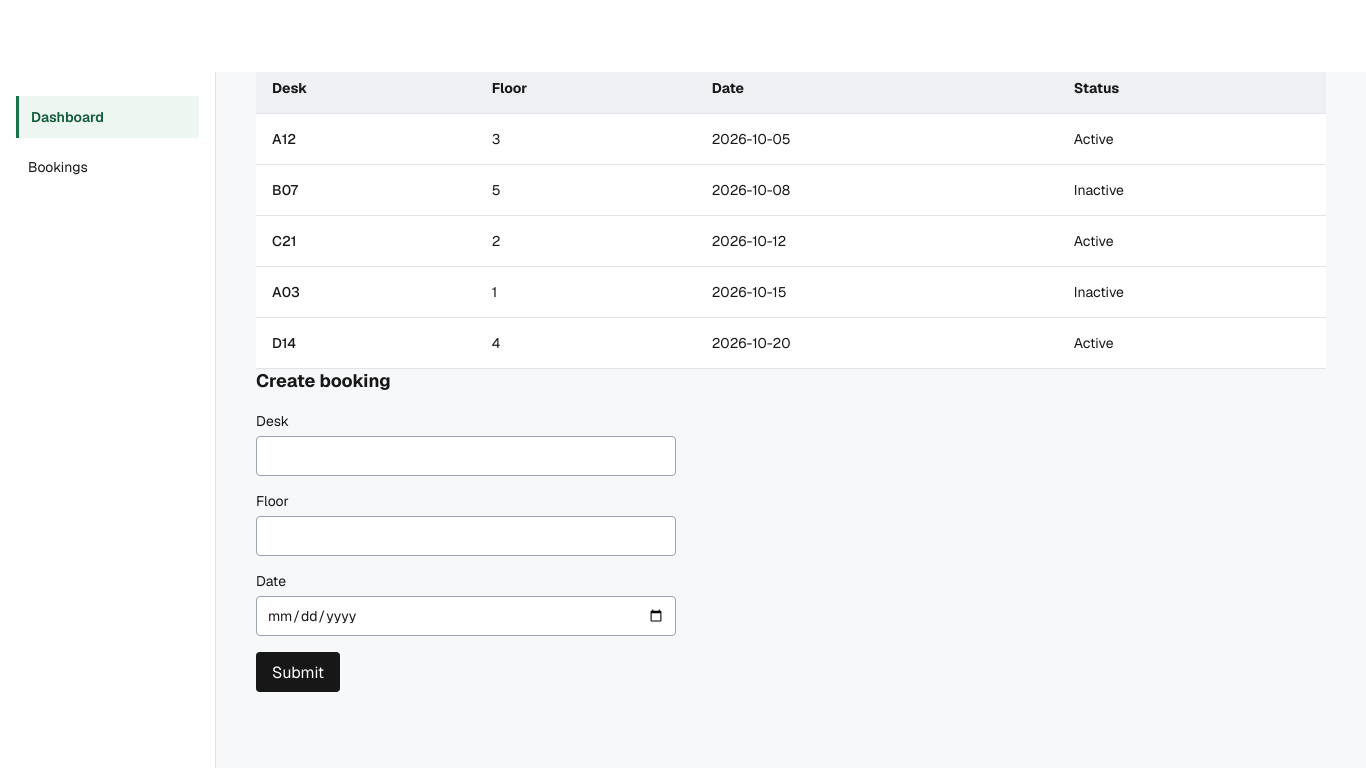
Test: dashboard booking creation › does not add an invalid booking or display success
(page scrolled)
Click the button "Submit" at (298, 672), box [256,652,340,692]
Wait 2000 ms
(page scrolled)
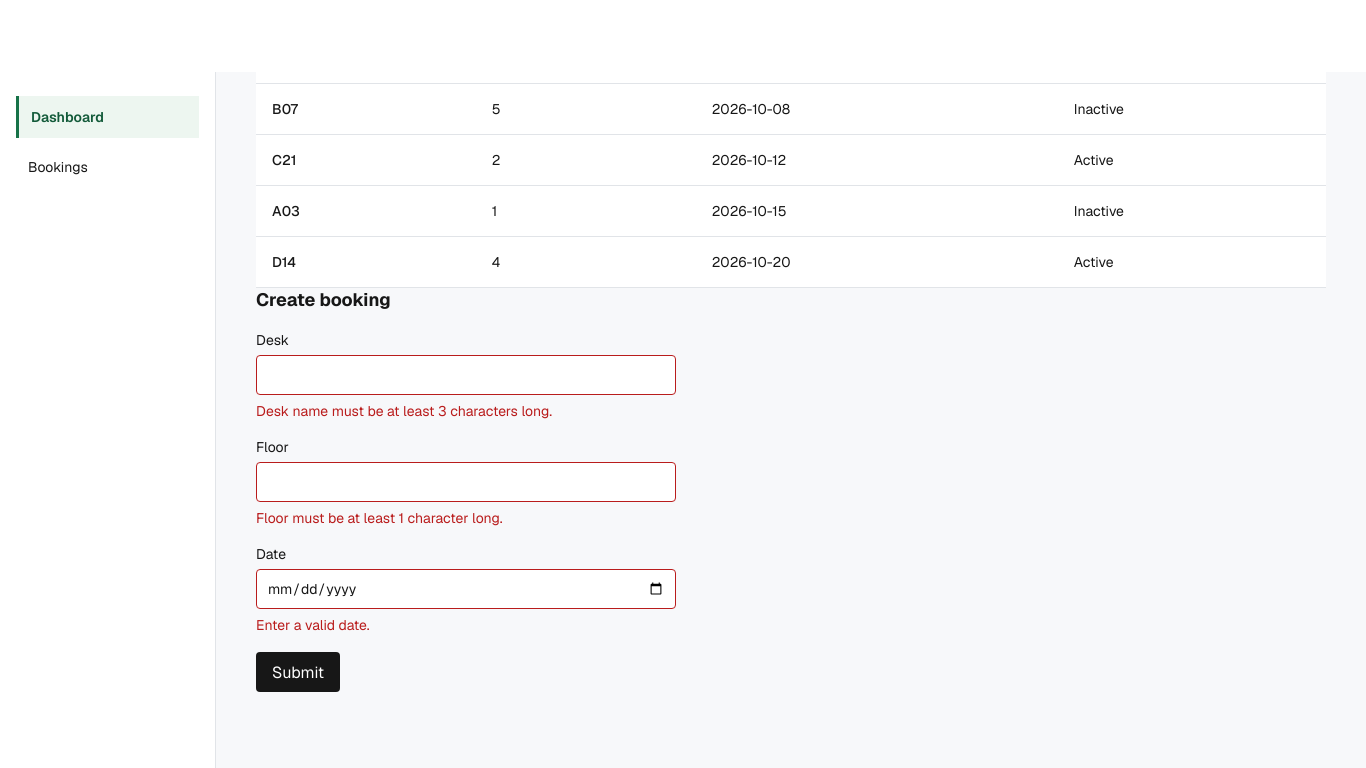
Check: the number of messages is 3, box [256,402,552,420]; [256,509,503,527]; [256,616,370,634]
